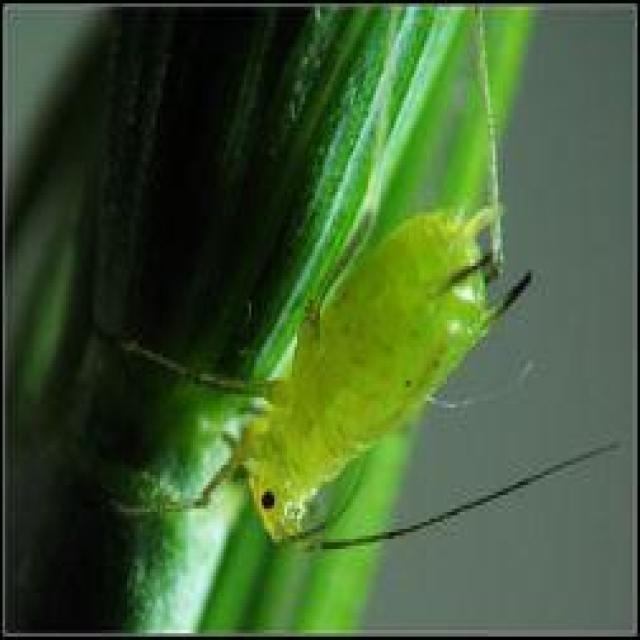Aphids: (115, 136, 616, 560)
